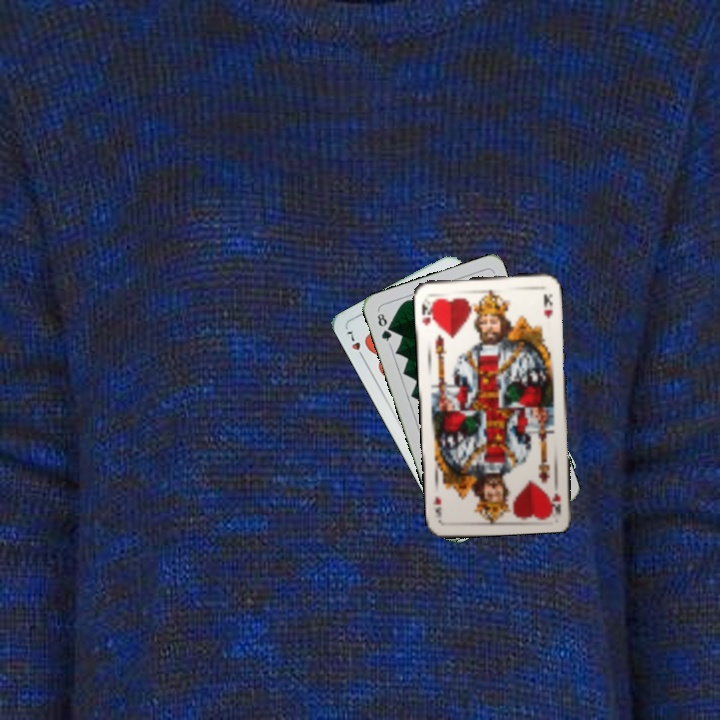G8: (373, 307, 394, 347)
H7: (342, 327, 368, 363)
HK: (417, 296, 438, 328), (549, 489, 563, 516)
